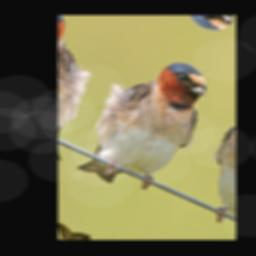Swallow: (75, 36, 218, 210)
